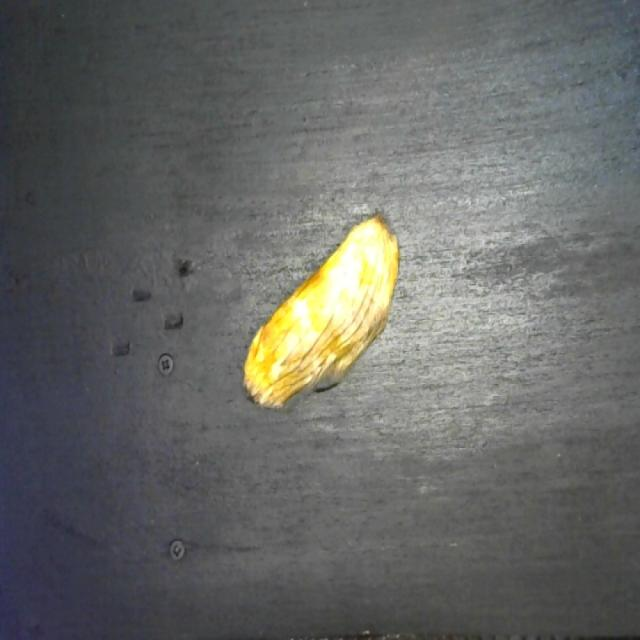biodegradable: (233, 202, 403, 410)
